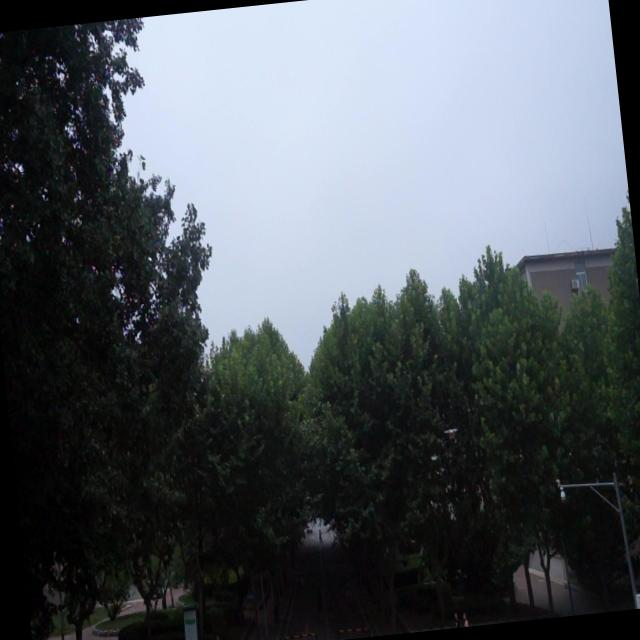drone: (444, 422, 456, 440)
